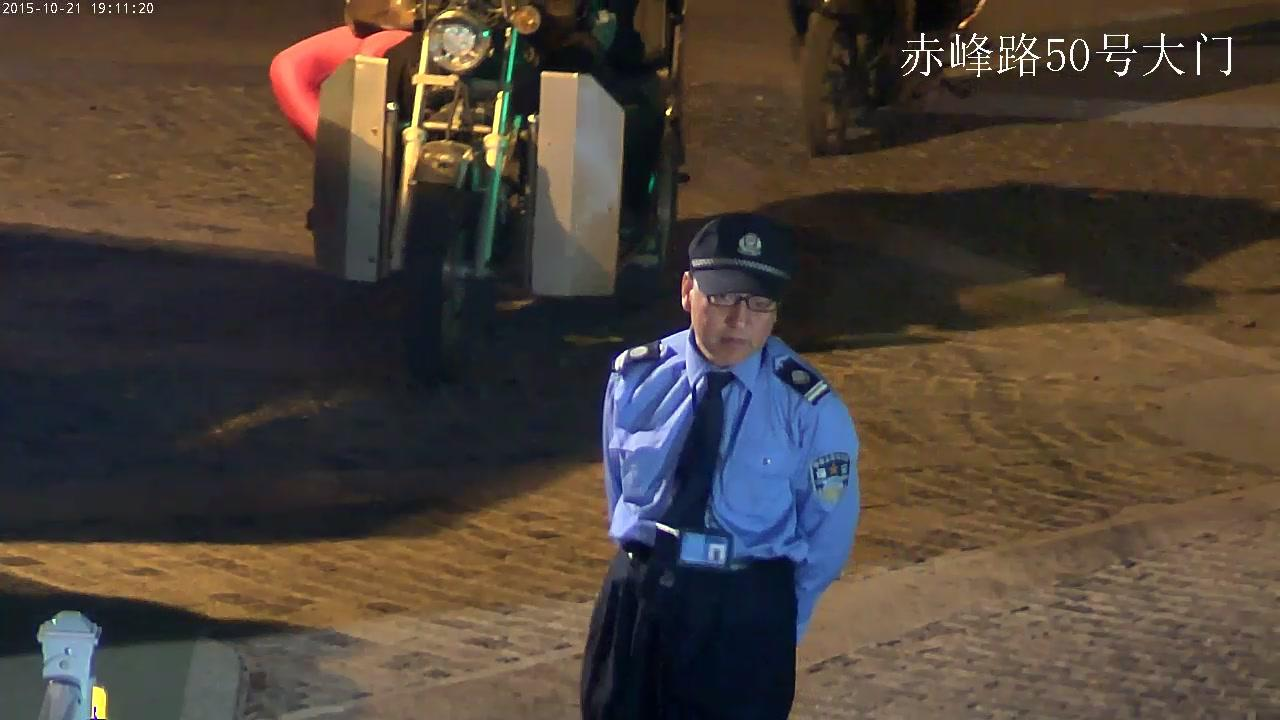person: (568, 206, 860, 720)
